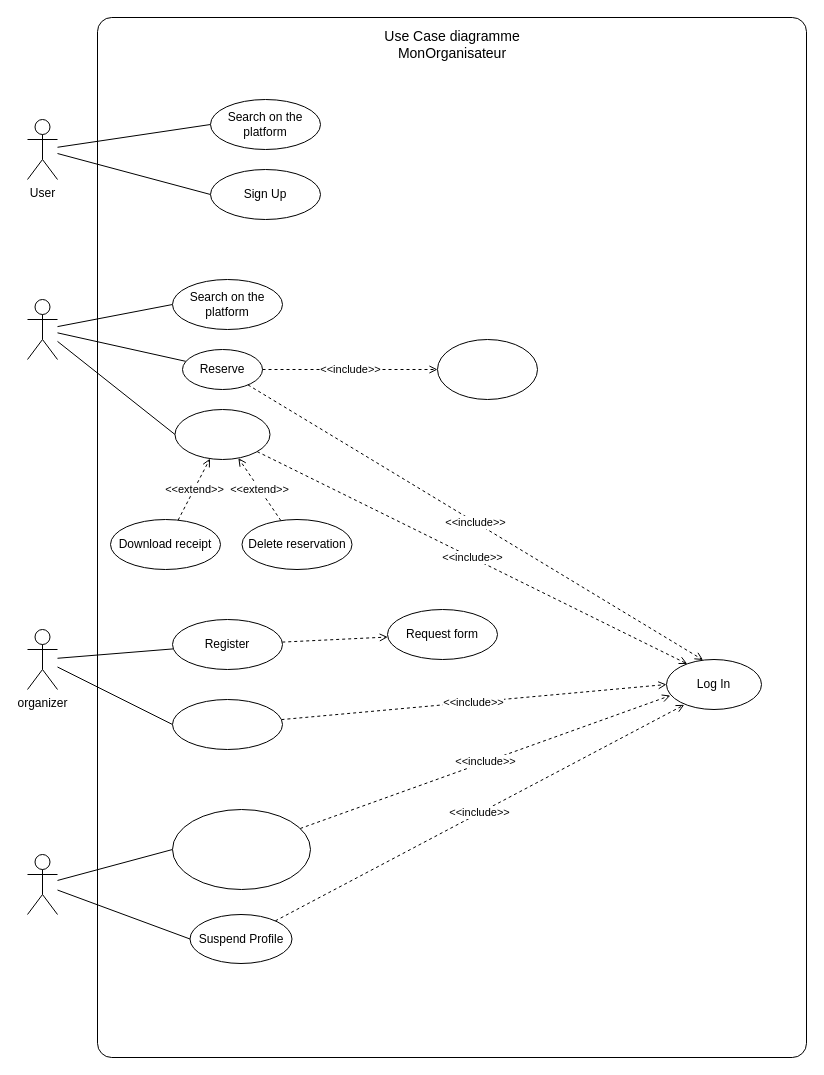
Some shapes in this 824 by 1075 pixel diagram are drawn without their labels. Here are the shapes that lost their labels. From the top down, the centre of each, then its label:
point (42, 329): Client
point (487, 369): Enter payment details
point (222, 434): Read reservations
point (227, 724): Modify hes identity
point (241, 849): Confirme the organizer registeration request
point (42, 884): Admin
